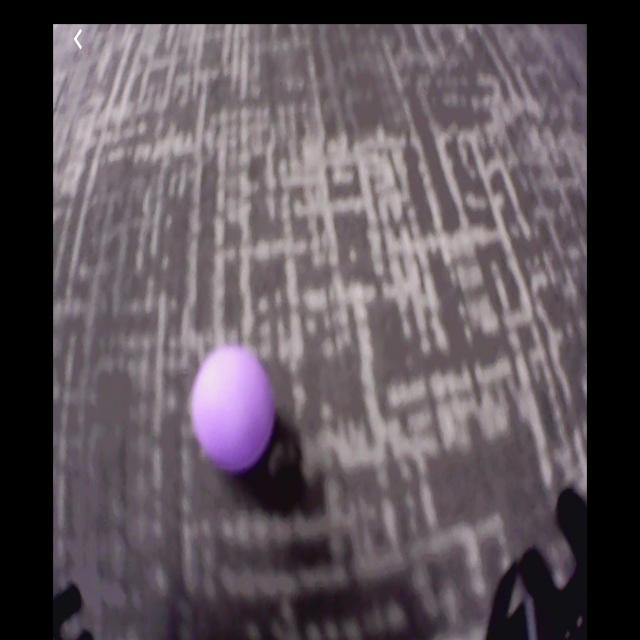ball: (192, 349, 279, 473)
